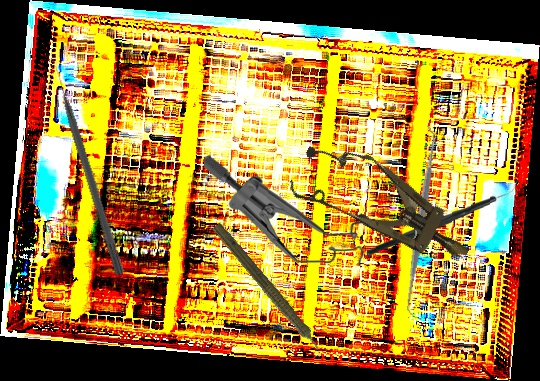Chopper: (363, 177, 522, 258)
Handpiece: (206, 220, 333, 365)
Pusher: (51, 64, 127, 276)
Spatula Surgical: (395, 123, 446, 318)
Speculum: (283, 128, 486, 286), (202, 153, 390, 270)
